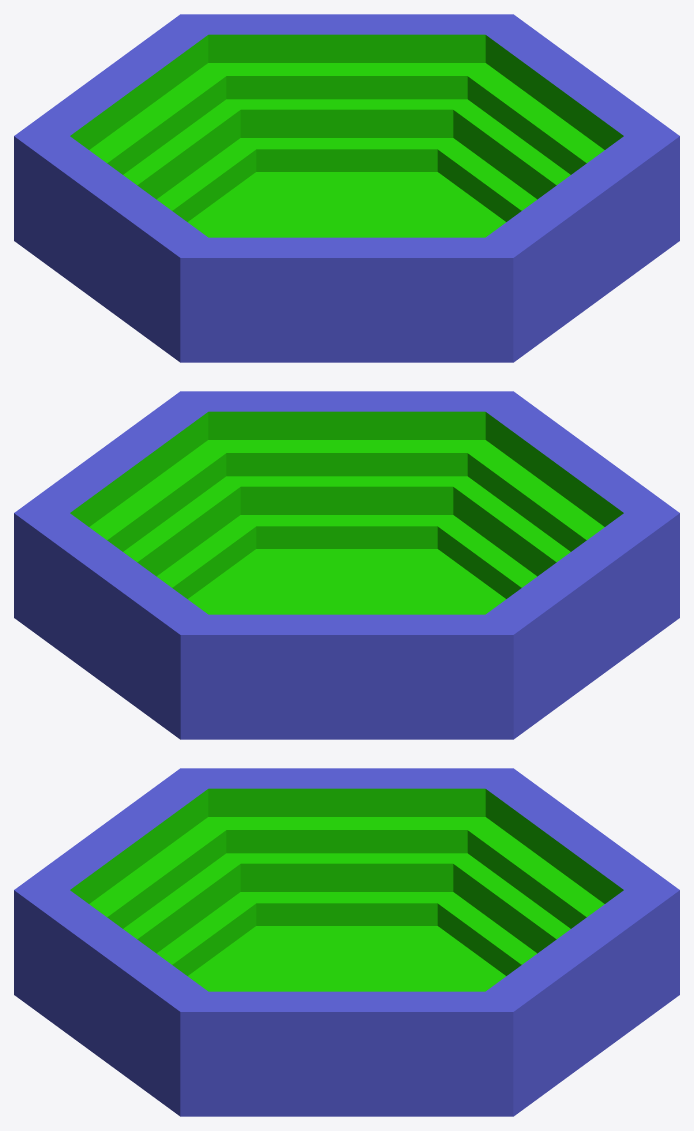
The model's file is DigSite_2.fbx.
3 views of the same model, one above another, from view 1: azimuth 30°, elevation 25°; view 2: azimuth 150°, elevation 25°; view 3: azimuth 270°, elevation 25° (orthographic).
Parts seen in each view (by area): view 1: DigSite; view 2: DigSite; view 3: DigSite.
Part boxes in pixels (x1=…): DigSite: x1=14, y1=14, x2=679, y2=362; DigSite: x1=14, y1=391, x2=679, y2=739; DigSite: x1=14, y1=768, x2=679, y2=1116.
Size of the model in its own units: 0.9994 by 0.2003 by 1.15.
